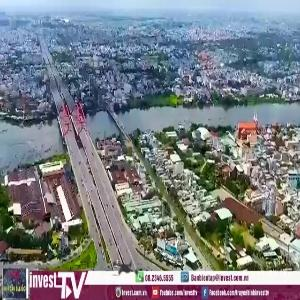drone: (99, 240, 154, 295)
